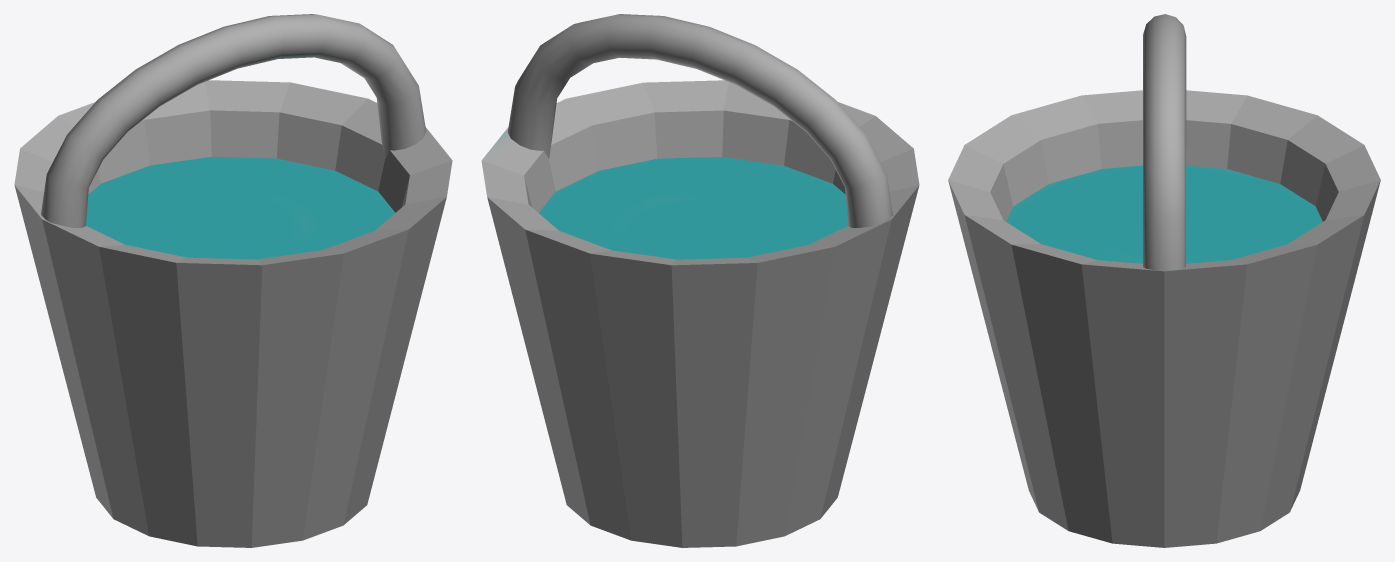
File: water.fbx
The picture shows the model from 3 angles, left to right: view 1: azimuth 30°, elevation 25°; view 2: azimuth 150°, elevation 25°; view 3: azimuth 270°, elevation 25°; orthographic projection. The views are drawn at different scales.
Parts seen in each view (by area): view 1: Cylinder, BezierCurve; view 2: Cylinder, BezierCurve; view 3: Cylinder, BezierCurve.
Boxes of the visible parts, x1=… form: Cylinder: x1=14, y1=80, x2=452, y2=547; BezierCurve: x1=41, y1=14, x2=426, y2=227; Cylinder: x1=481, y1=80, x2=919, y2=547; BezierCurve: x1=508, y1=14, x2=892, y2=227; Cylinder: x1=948, y1=90, x2=1380, y2=547; BezierCurve: x1=1143, y1=14, x2=1186, y2=270.
Size of the model in its own units: 2 by 2.31 by 2.
